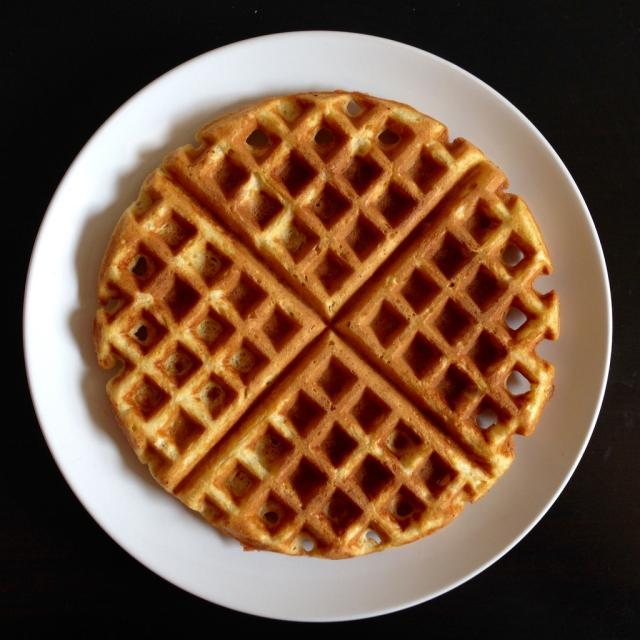Waffle: (93, 89, 561, 561)
